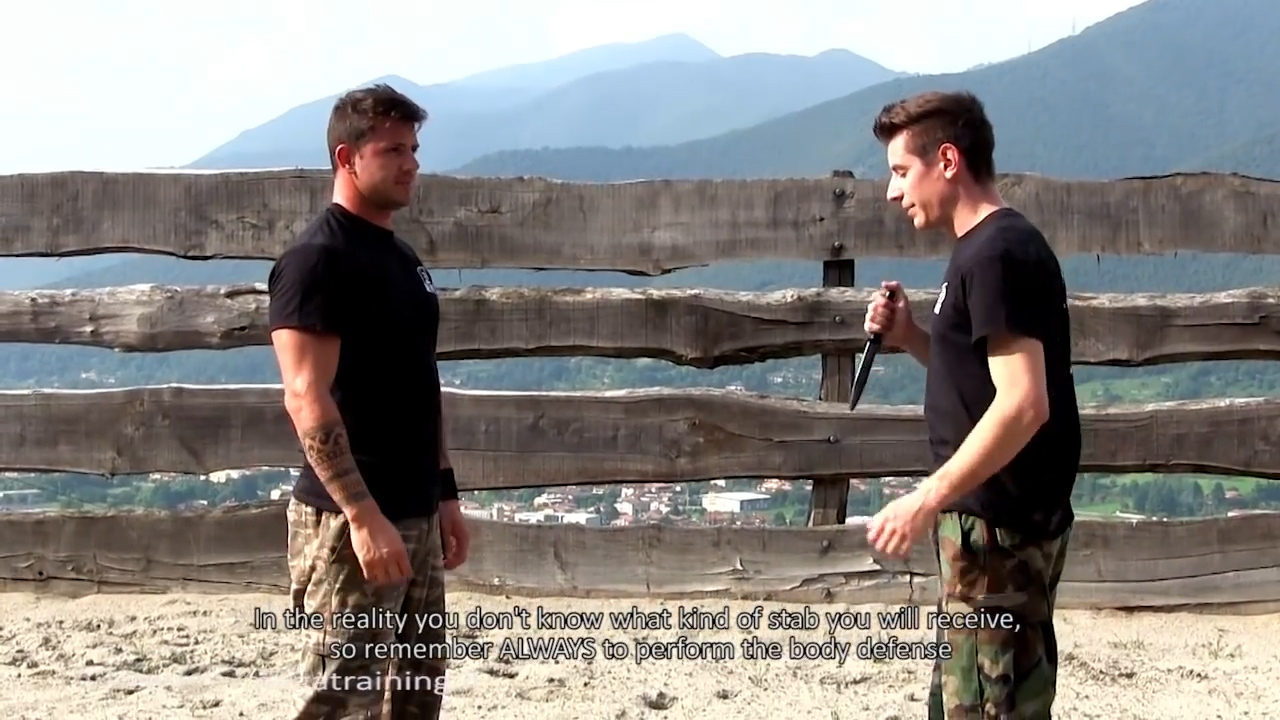knife: (841, 275, 908, 420)
